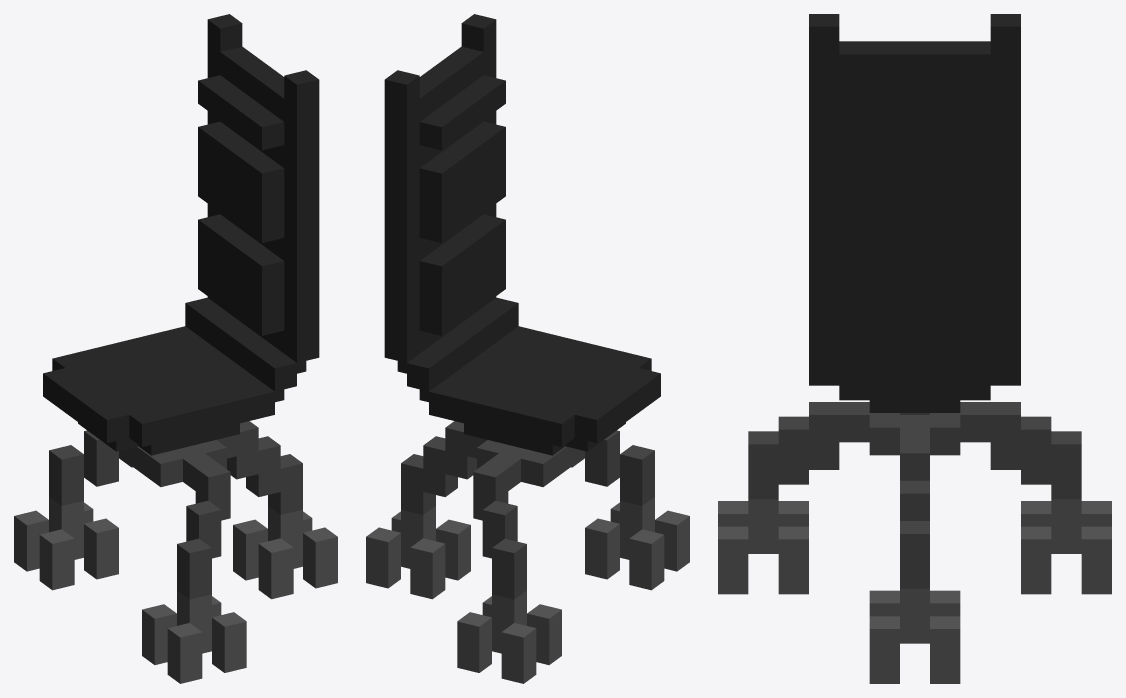
File: F_Chair.obj
3 views of the same model, side by side, from view 1: azimuth 30°, elevation 25°; view 2: azimuth 150°, elevation 25°; view 3: azimuth 270°, elevation 25° (orthographic). The views are drawn at different scales.
Bounding box in the file's own units: 1.1 × 2.3 × 1.3.
Materials: 1 (1 with a texture image).
